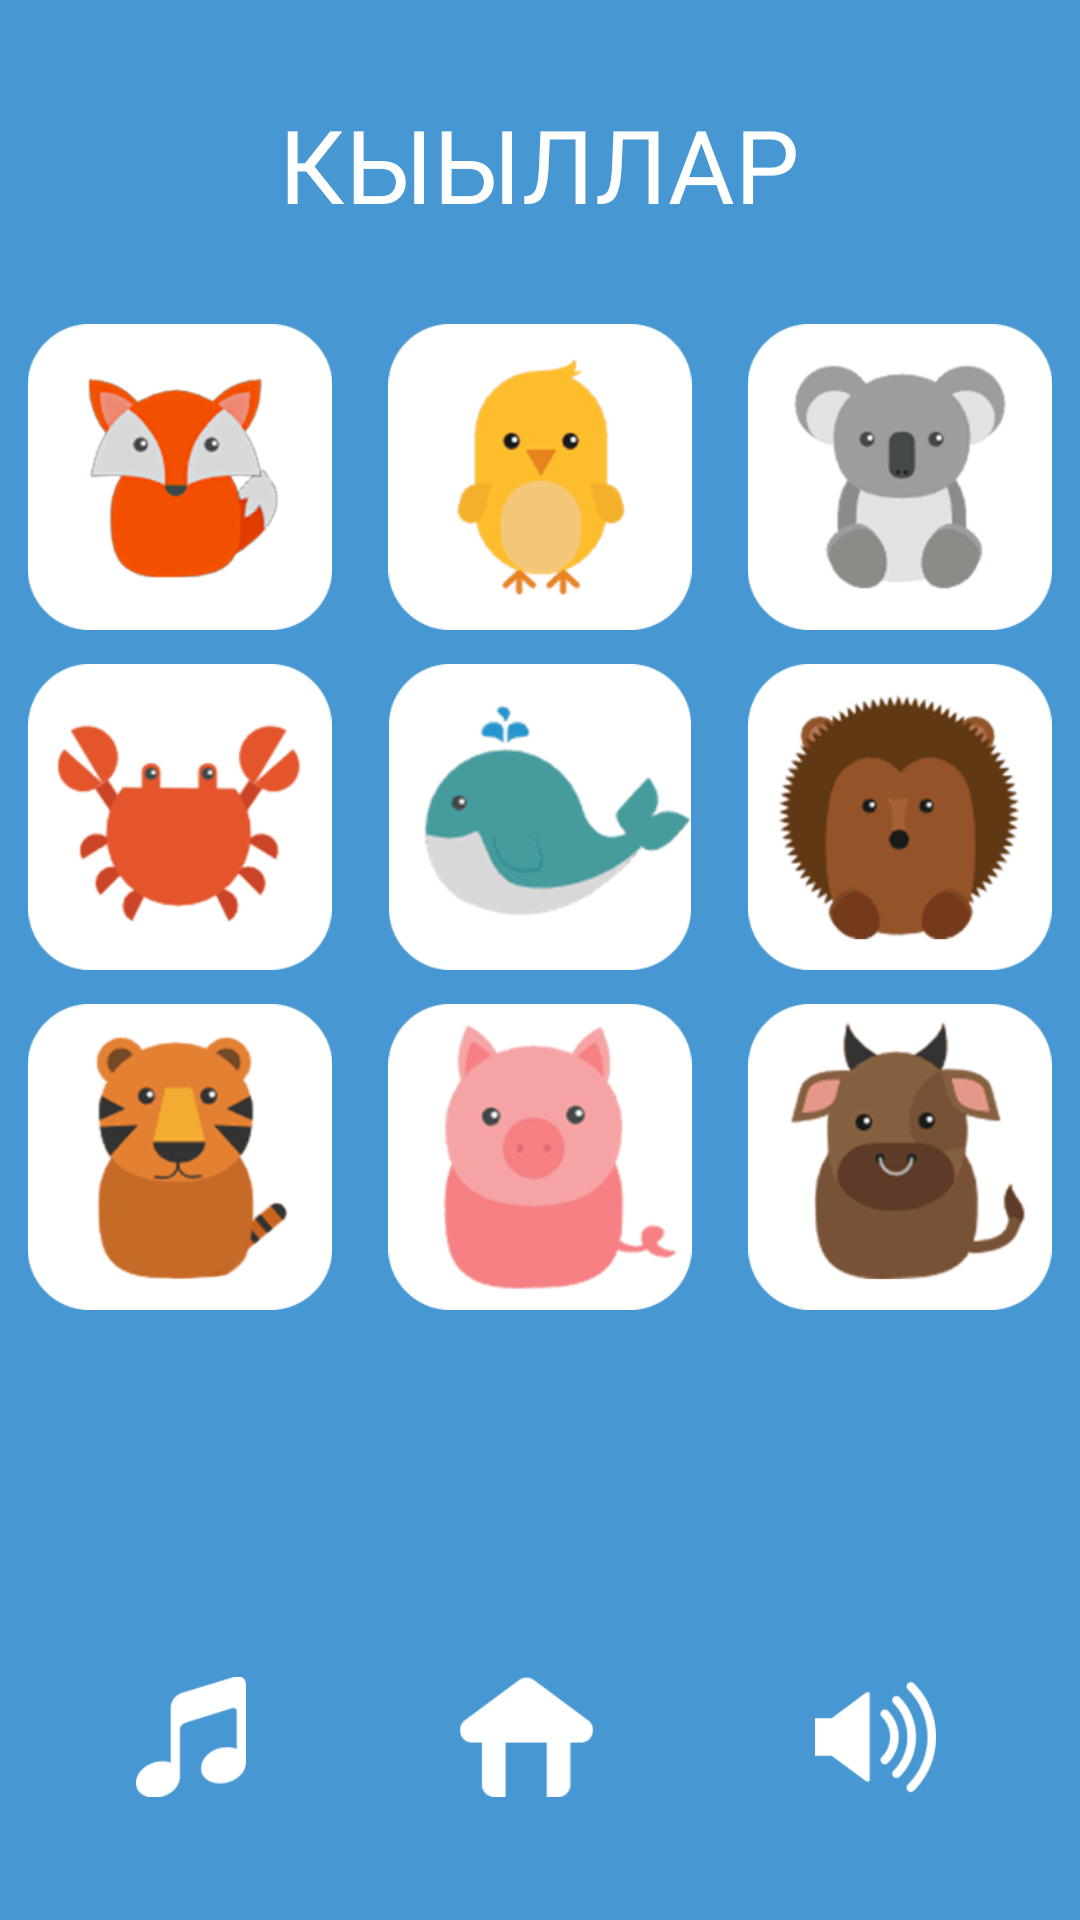

Screen size 1080x1920. Icon name, then its box in pixels as (x1,y1,x2,y2):
cow: (748,1004,1052,1310)
ezik: (748,664,1052,970)
fox: (28,324,332,630)
home: (460,1677,593,1797)
kit: (389,664,691,970)
koala: (748,324,1052,630)
krab: (28,664,332,970)
kurochka: (388,324,692,630)
music toggle: (136,1677,246,1797)
pig: (388,1004,692,1310)
sound toggle: (815,1681,936,1793)
tiger: (28,1004,332,1310)
